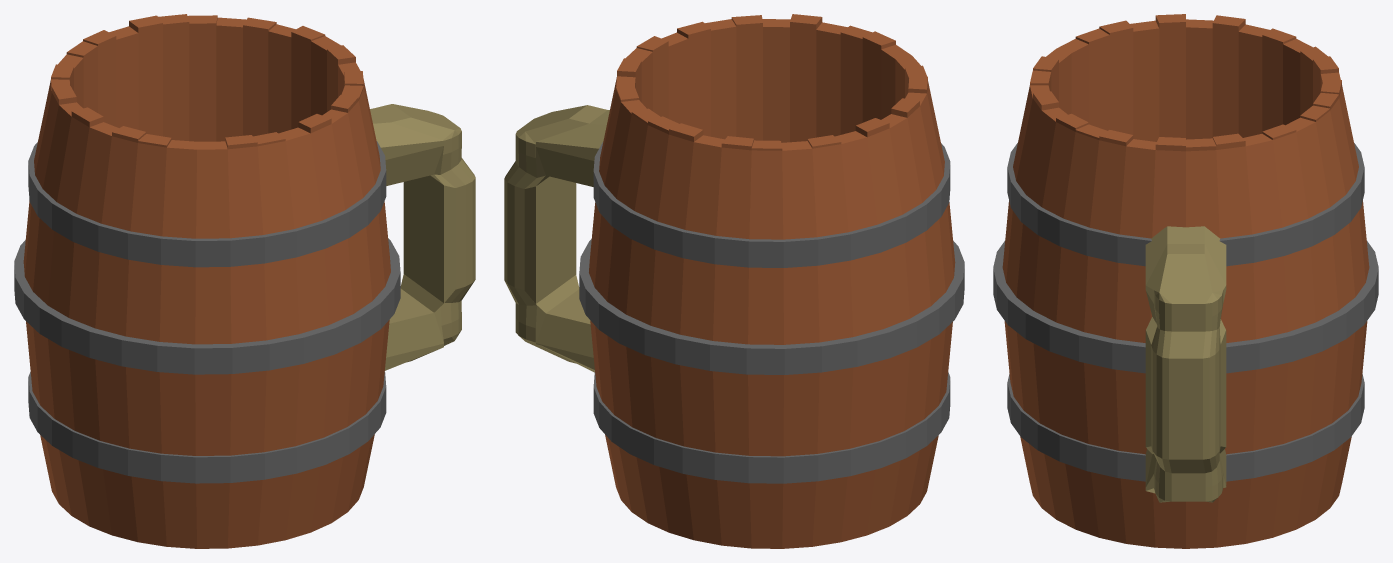
The model's file is beker.fbx.
3 views of the same model, side by side, from view 1: azimuth 30°, elevation 25°; view 2: azimuth 150°, elevation 25°; view 3: azimuth 270°, elevation 25° (orthographic).
Parts seen in each view (by area): view 1: Cylinder; view 2: Cylinder; view 3: Cylinder.
Part boxes in pixels (x1,y1,x2,y2): Cylinder: (14,14,475,548); Cylinder: (504,14,964,548); Cylinder: (993,14,1378,548).
Size of the model in its own units: 4.5 by 4.08 by 3.54.
